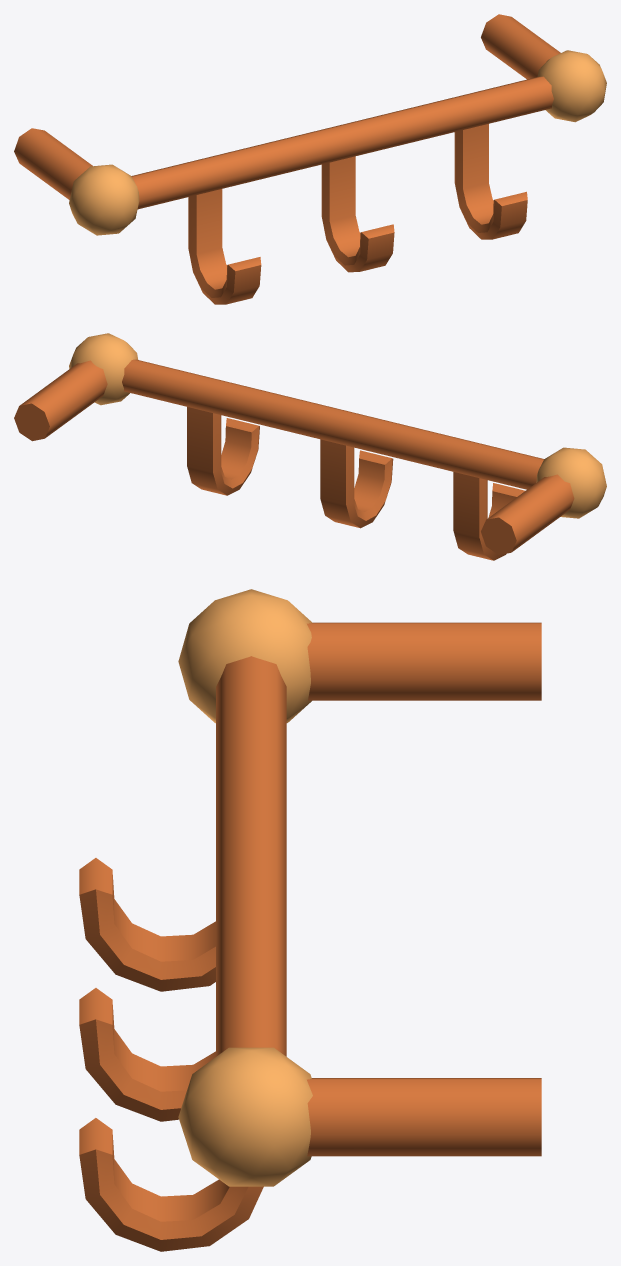
Rendered from Hanger.fbx.
3 views of the same model, one above another, from view 1: azimuth 30°, elevation 25°; view 2: azimuth 150°, elevation 25°; view 3: azimuth 270°, elevation 25° (orthographic). The views are drawn at different scales.
Visible parts, largest first — view 1: Hanger; view 2: Hanger; view 3: Hanger.
Boxes of the visible parts, x1,y1,x2,y2 form: Hanger: (14,14,606,304); Hanger: (14,333,606,560); Hanger: (79,589,541,1251).
Bounding box in the file's own units: 126 × 47.78 × 32.54.
